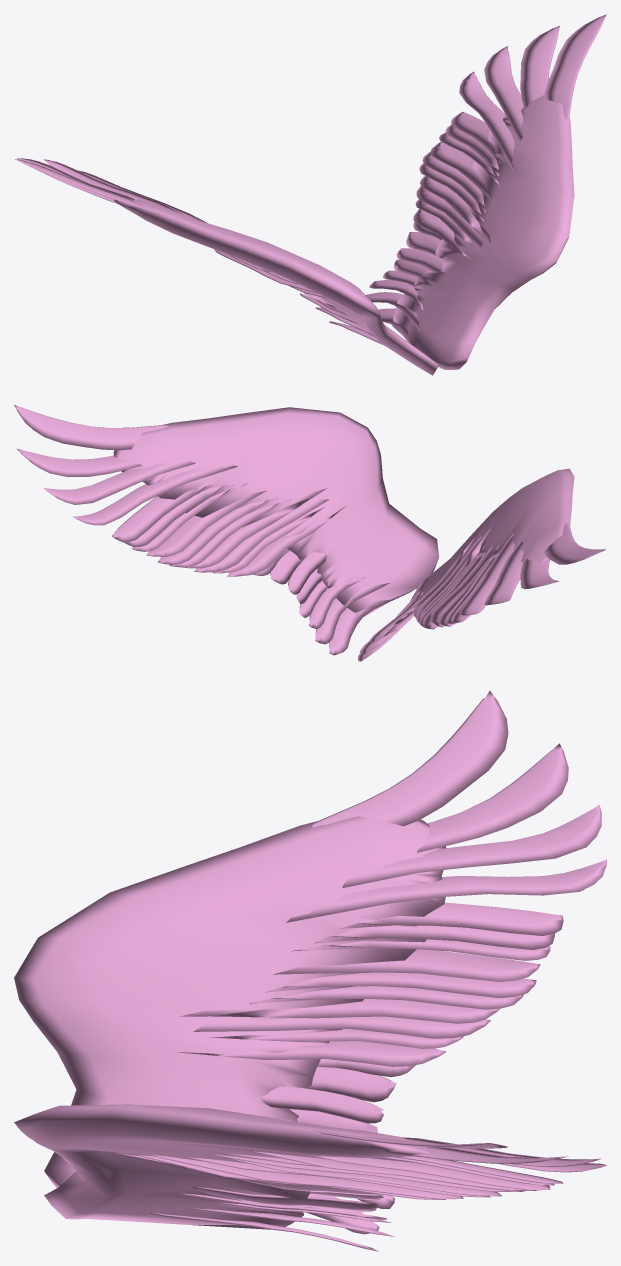
3 renders of one model, top to bottom at view 1: azimuth 30°, elevation 25°; view 2: azimuth 150°, elevation 25°; view 3: azimuth 270°, elevation 25°, orthographic. The views are drawn at different scales.
Visible parts, largest first — view 1: angel__2_001; view 2: angel__2_001; view 3: angel__2_001.
Boxes of the visible parts, <box> form: angel__2_001: <box>15,14,606,375</box>; angel__2_001: <box>14,404,605,661</box>; angel__2_001: <box>14,690,606,1251</box>.
Size of the model in its own units: 1464 by 491 by 811.
